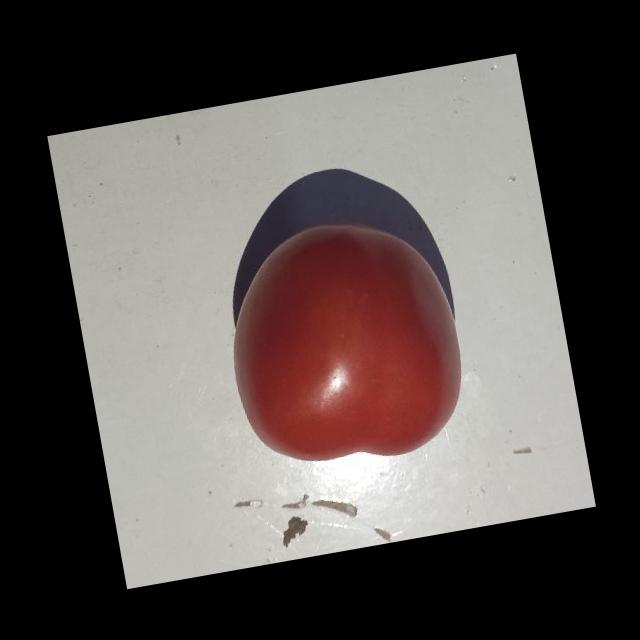tomato: (196, 176, 470, 482)
